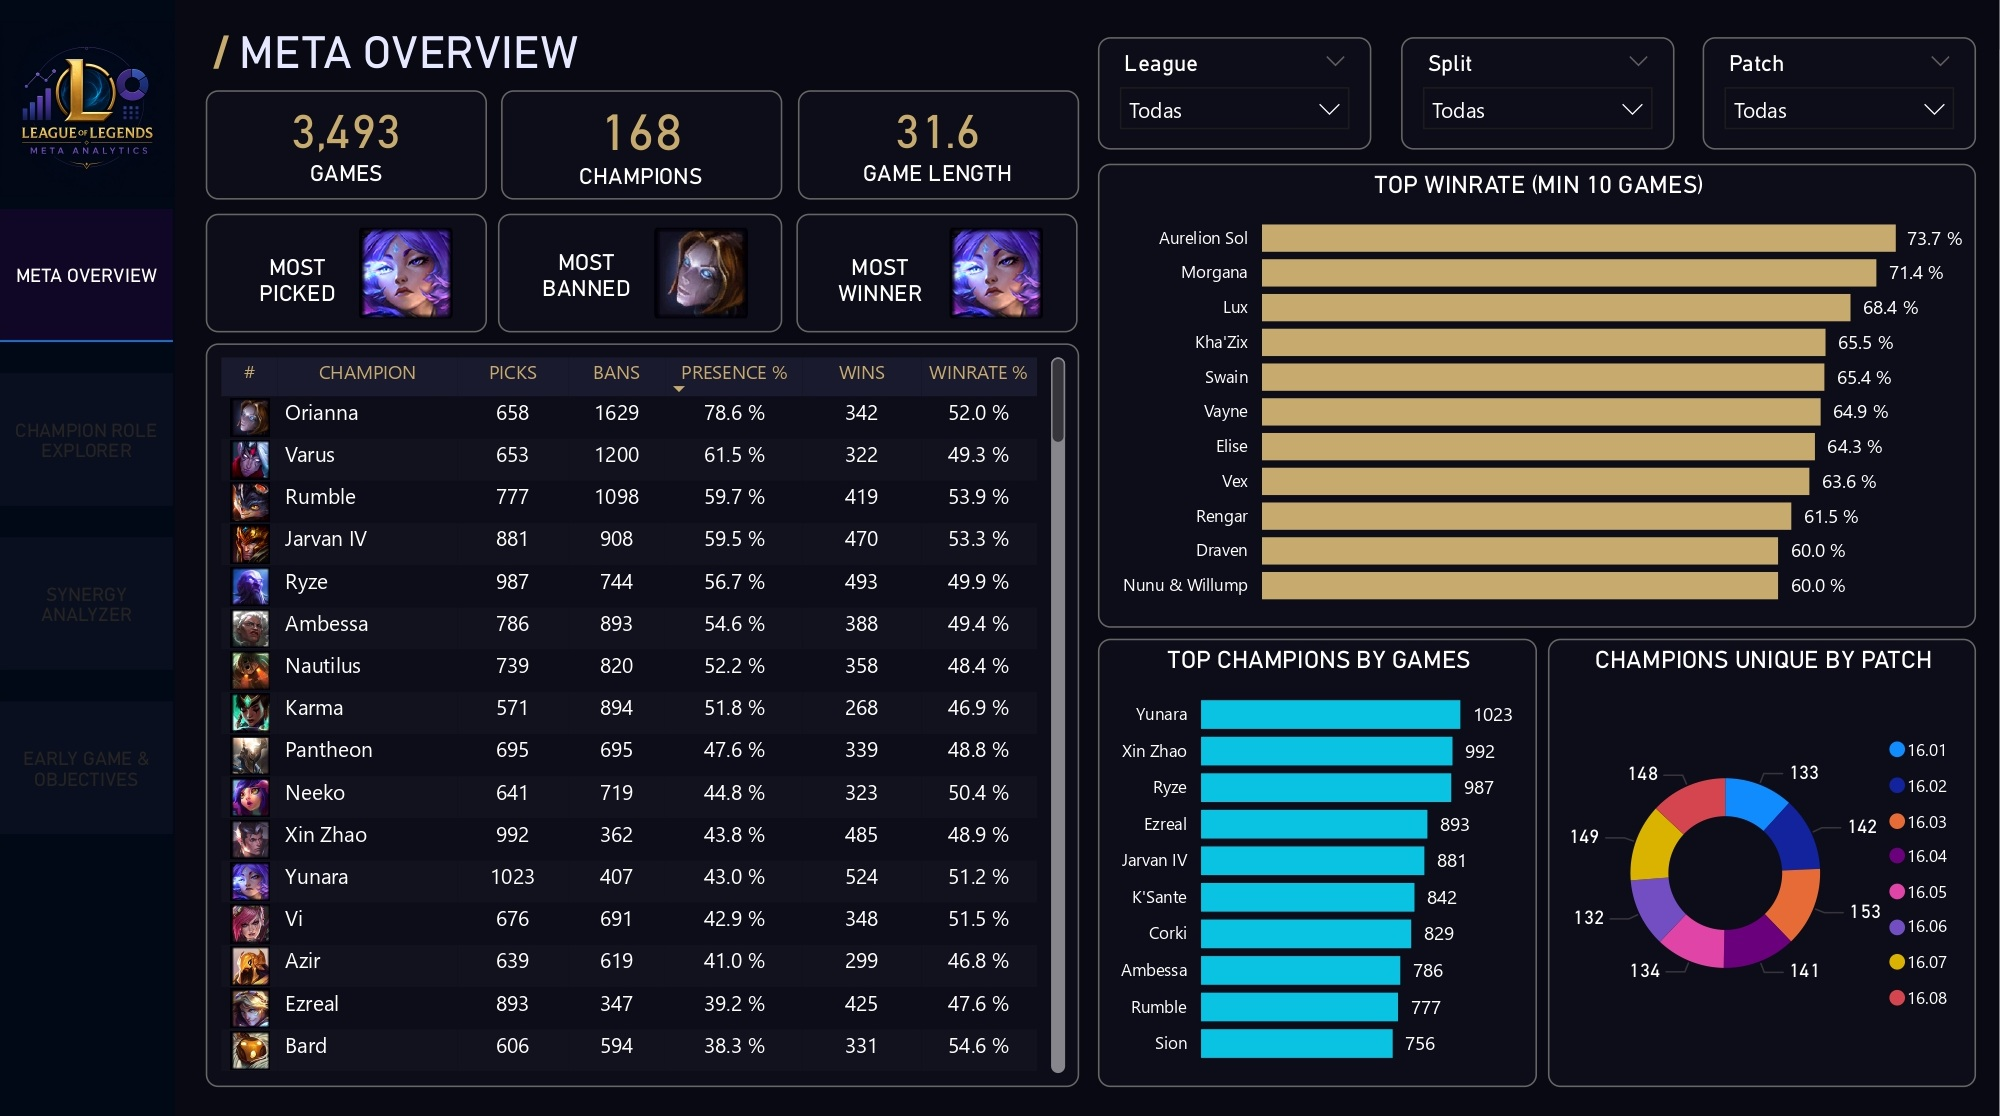

The dashboard page shown, as its layout file describes it:
{"tool":"powerbi","page":{"name":"META OVERVIEW","canvas":[1280,720],"ordinal":0},"visuals":[{"type":"cardVisual","fields":{"Data":["_1.Total Games"]},"box":[132.3,60.3,180,70],"z":0},{"type":"cardVisual","fields":{"Data":["_1.Most Picked"]},"box":[132,138.9,179.9,76.3],"z":0,"group":"g2"},{"type":"cardVisual","fields":{"Data":["_1.Most Banned"]},"box":[319,138.9,181.9,76.3],"z":0,"group":"g3"},{"type":"cardVisual","fields":{"Data":["_1.Most Winner"]},"box":[510.4,138.9,179.9,76.3],"z":0,"group":"g4"},{"type":"cardVisual","fields":{"Data":["_2.Unique Champs Role"]},"box":[321,60.3,179.9,70],"z":1000},{"type":"textbox","box":[329.7,155.6,91.4,48.6],"z":1000,"group":"g3"},{"type":"textbox","box":[144.6,158.4,91.4,46.5],"z":1000,"group":"g2"},{"type":"textbox","box":[518.2,158.4,91.4,46.5],"z":1000,"group":"g4"},{"type":"cardVisual","fields":{"Data":["Avg(Dim_Game.gamelength_min)"]},"box":[510.6,60.3,179.9,70],"z":2000},{"type":"slicer","fields":{"Values":["Dim_League.league"]},"box":[703.2,26.3,175,72],"z":3000},{"type":"slicer","fields":{"Values":["Fact_ChampionStats.split"]},"box":[896.8,26.3,175.1,72],"z":4000},{"type":"tableEx","fields":{"Values":["Fact_ChampionStats.Champion Icon","Fact_ChampionStats.champion","Sum(Fact_ChampionStats.picks)","Sum(Fact_ChampionStats.bans)","_1.Presence %","Sum(Fact_ChampionStats.wins)","_1.Winrate %"]},"box":[132.3,221.8,558.3,476.6],"z":5000},{"type":"clusteredBarChart","title":"TOP WINRATE (MIN 10 GAMES)","fields":{"Category":["Fact_ChampionStats.champion"],"Y":["_1.Winrate %"]},"box":[703.2,107,562.2,296.7],"z":6000},{"type":"shape","box":[0,0,111.6,719.9],"z":7000,"group":"g1"},{"type":"clusteredBarChart","title":"TOP CHAMPIONS BY GAMES","fields":{"Category":["Fact_ChampionStats.champion"],"Y":["Sum(Fact_ChampionStats.picks)"]},"box":[703.2,411.4,281.1,286.9],"z":7000},{"type":"textbox","box":[132.3,13.6,306.4,43.8],"z":8000},{"type":"group","id":"g1","title":"Grupo 1","box":[0,0,111.6,719.9],"z":9000},{"type":"donutChart","title":"CHAMPIONS UNIQUE BY PATCH","fields":{"Y":["_1.Unique Champions"],"Category":["Dim_Patch.patch"]},"box":[991.1,411.4,274.3,286.9],"z":10000},{"type":"group","id":"g2","title":"Grupo 2","box":[132,138.9,179.9,76.3],"z":11000},{"type":"pageNavigator","box":[0,135.7,111.6,400.4],"z":12000,"group":"g1"},{"type":"group","id":"g3","title":"Grupo 2","box":[319,138.9,181.9,76.3],"z":12000},{"type":"image","box":[0,13.5,111.6,116.5],"z":13000,"group":"g1"},{"type":"group","id":"g4","title":"Grupo 2","box":[510.4,138.9,179.9,76.3],"z":13000},{"type":"slicer","fields":{"Values":["Fact_ChampionStats.patch"]},"box":[1090.3,26.3,175.1,72],"z":14000}]}

Visuals, with their boxes on the page's 1280x720 design canvas (x1, y1, x2, y2). These are canvas units, not pixel positions in the 2000x1116 screenshot, which may show the page scaled, cropped or inside an application window:
cardVisual - _1.Total Games: [left=132, top=60, right=312, bottom=130]
cardVisual - _1.Most Picked: [left=132, top=139, right=312, bottom=215]
cardVisual - _1.Most Banned: [left=319, top=139, right=501, bottom=215]
cardVisual - _1.Most Winner: [left=510, top=139, right=690, bottom=215]
cardVisual - _2.Unique Champs Role: [left=321, top=60, right=501, bottom=130]
textbox: [left=330, top=156, right=421, bottom=204]
textbox: [left=145, top=158, right=236, bottom=205]
textbox: [left=518, top=158, right=610, bottom=205]
cardVisual - Avg(Dim_Game.gamelength_min): [left=511, top=60, right=690, bottom=130]
slicer - Dim_League.league: [left=703, top=26, right=878, bottom=98]
slicer - Fact_ChampionStats.split: [left=897, top=26, right=1072, bottom=98]
tableEx - Fact_ChampionStats.Champion Icon x Fact_ChampionStats.champion: [left=132, top=222, right=691, bottom=698]
"TOP WINRATE (MIN 10 GAMES)" clusteredBarChart: [left=703, top=107, right=1265, bottom=404]
shape: [left=0, top=0, right=112, bottom=720]
"TOP CHAMPIONS BY GAMES" clusteredBarChart: [left=703, top=411, right=984, bottom=698]
textbox: [left=132, top=14, right=439, bottom=57]
"Grupo 1" group: [left=0, top=0, right=112, bottom=720]
"CHAMPIONS UNIQUE BY PATCH" donutChart: [left=991, top=411, right=1265, bottom=698]
"Grupo 2" group: [left=132, top=139, right=312, bottom=215]
pageNavigator: [left=0, top=136, right=112, bottom=536]
"Grupo 2" group: [left=319, top=139, right=501, bottom=215]
image: [left=0, top=14, right=112, bottom=130]
"Grupo 2" group: [left=510, top=139, right=690, bottom=215]
slicer - Fact_ChampionStats.patch: [left=1090, top=26, right=1265, bottom=98]
